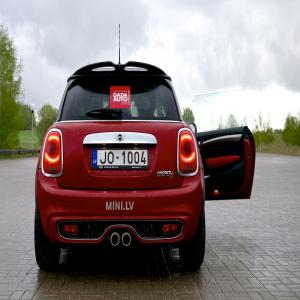Vehicle-registration-plate: (92, 149, 150, 169)
